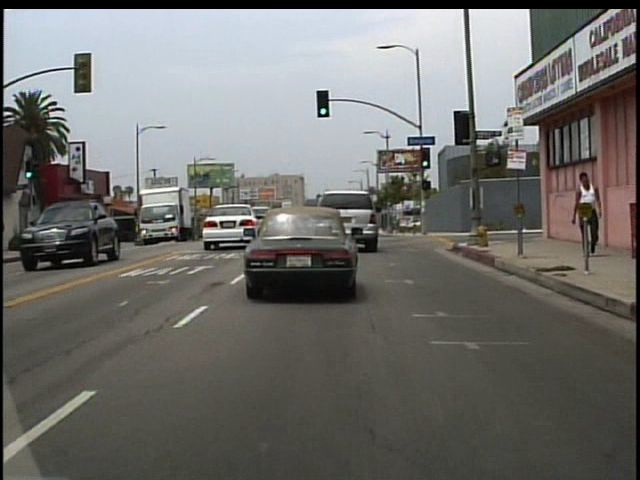person: (570, 171, 600, 261)
